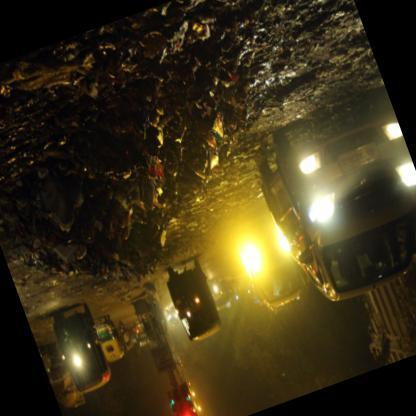Garbage: (19, 0, 263, 282), (0, 0, 296, 216), (66, 122, 237, 292), (102, 34, 232, 192), (46, 126, 178, 276), (0, 182, 103, 311), (113, 166, 230, 274), (156, 85, 256, 206), (205, 0, 325, 88), (94, 174, 167, 292), (0, 57, 53, 179), (12, 114, 66, 213), (31, 212, 80, 289), (0, 153, 38, 220), (71, 114, 104, 165), (10, 245, 26, 274)
